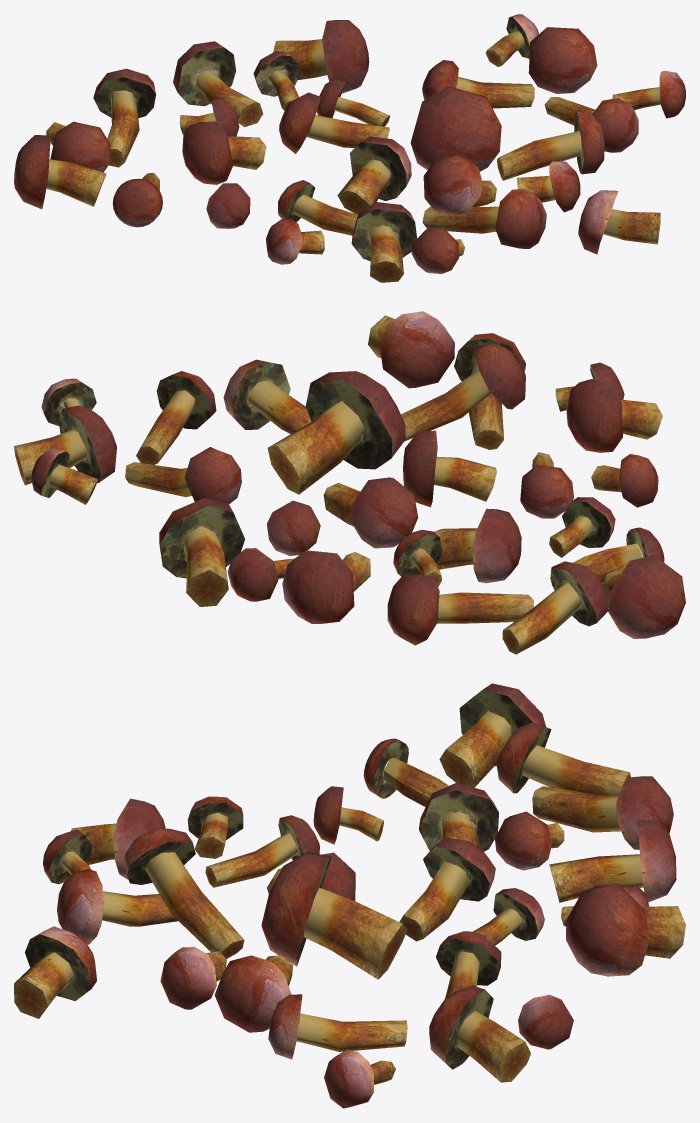
The model's file is Mushroom_Bunch.glb.
3 renders of one model, top to bottom at view 1: azimuth 30°, elevation 25°; view 2: azimuth 150°, elevation 25°; view 3: azimuth 270°, elevation 25°, orthographic. The views are drawn at different scales.
Parts seen in each view (by area): view 1: SM_Mushroom_Bunch; view 2: SM_Mushroom_Bunch; view 3: SM_Mushroom_Bunch.
Part boxes in pixels (box(x1,y1,x2,y2)): SM_Mushroom_Bunch: box(14, 14, 685, 282); SM_Mushroom_Bunch: box(14, 311, 685, 654); SM_Mushroom_Bunch: box(14, 683, 685, 1108).
Bounding box in the file's own units: 0.4567 × 0.0693 × 0.3588.
Materials: 1 (1 with a texture image).
